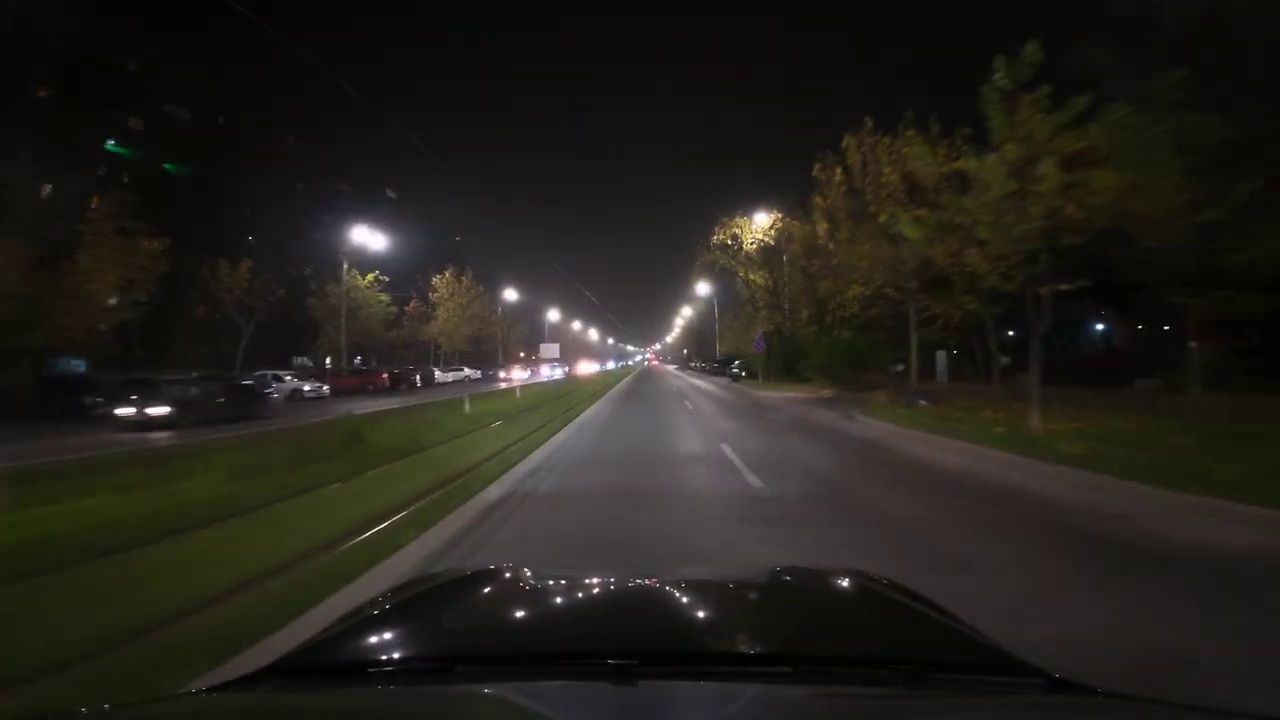acesa: (349, 223, 387, 251), (499, 283, 522, 306), (691, 277, 715, 298)
